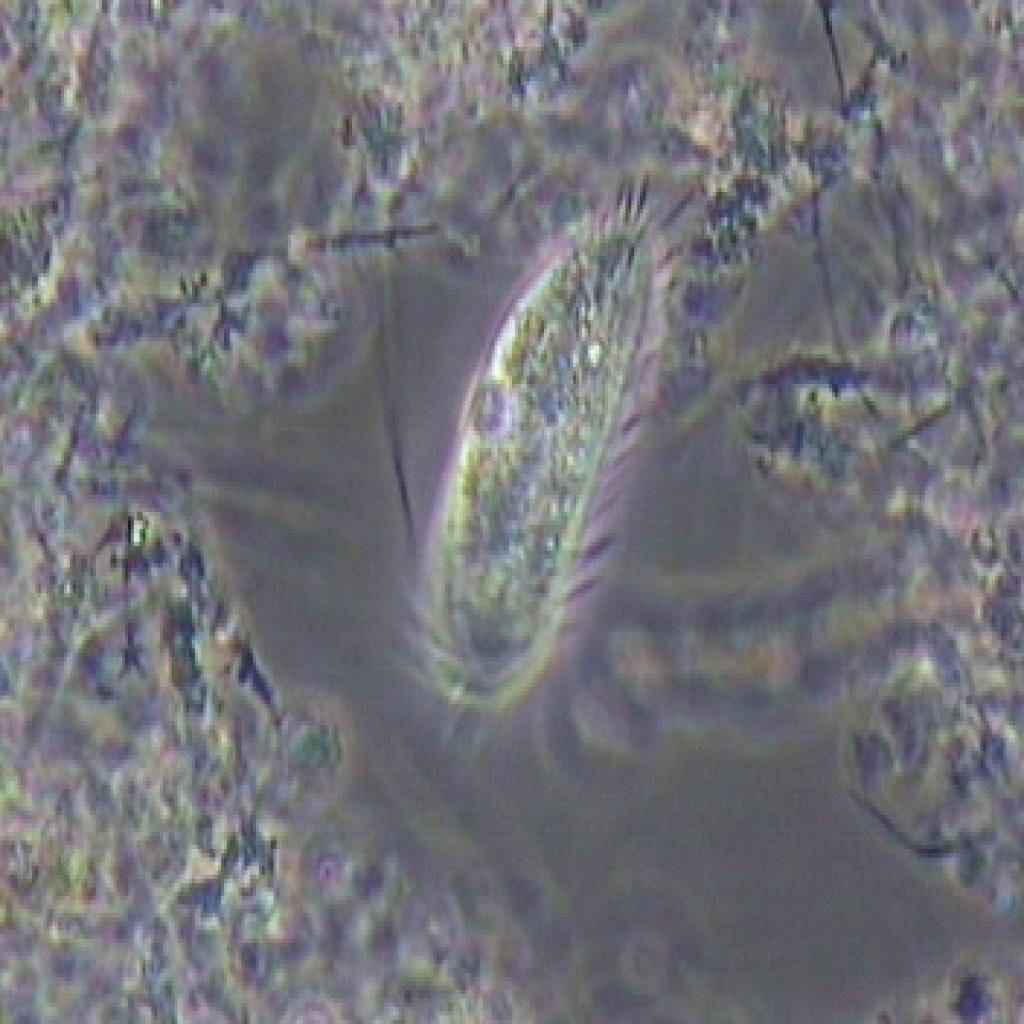Stylonychia: (348, 179, 728, 730)
